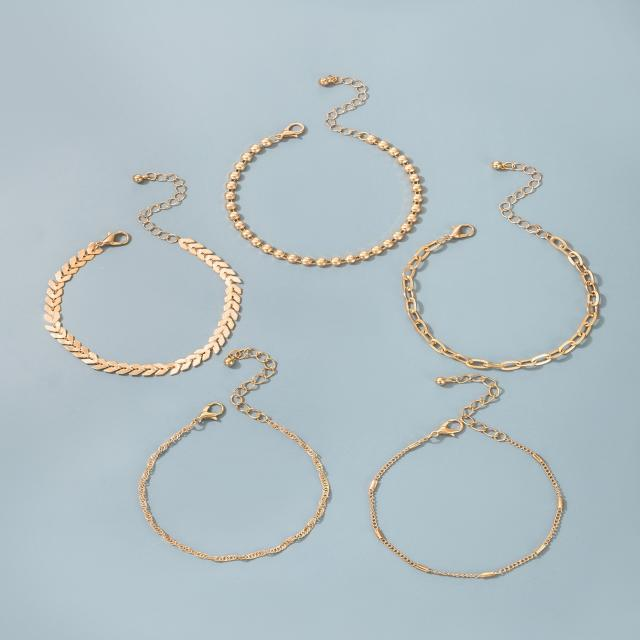bracelet: (365, 133, 640, 386), (341, 348, 595, 616), (113, 335, 396, 575), (160, 35, 429, 264), (29, 150, 269, 398)
